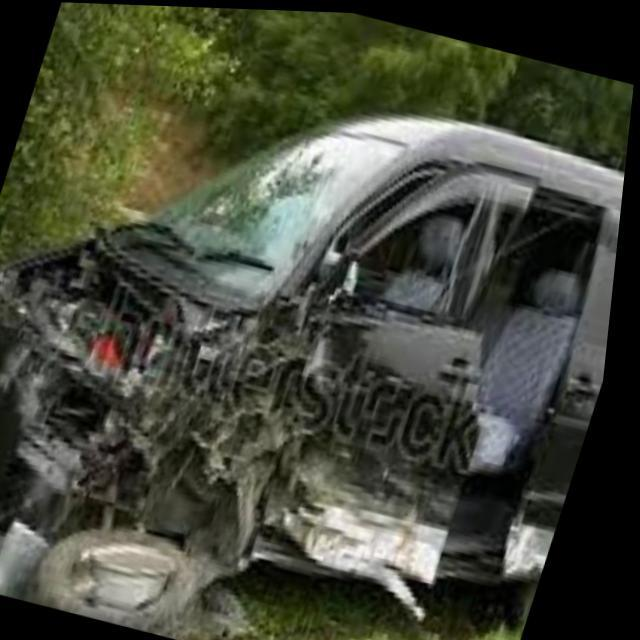crash: (0, 160, 484, 586)
